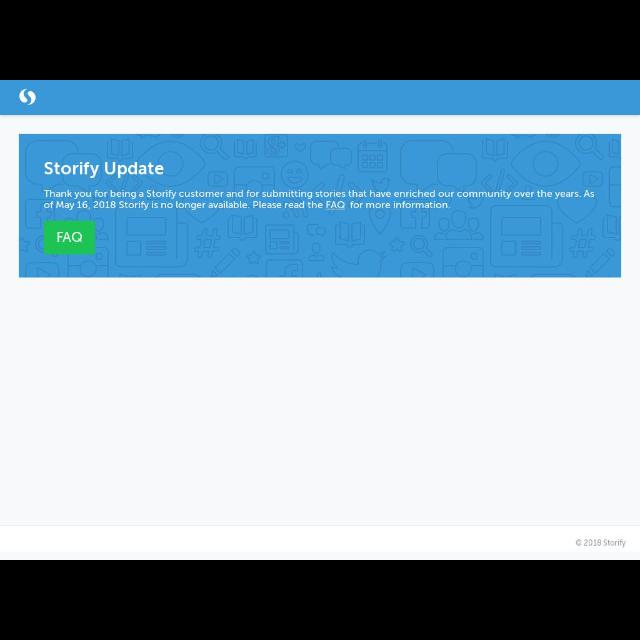backgroundimage: (18, 134, 622, 278)
icon: (575, 539, 581, 545)
image: (18, 89, 36, 107)
text: (42, 189, 596, 211), (44, 162, 166, 180), (584, 538, 626, 548), (57, 230, 83, 243)
textbutton: (44, 220, 96, 254)
